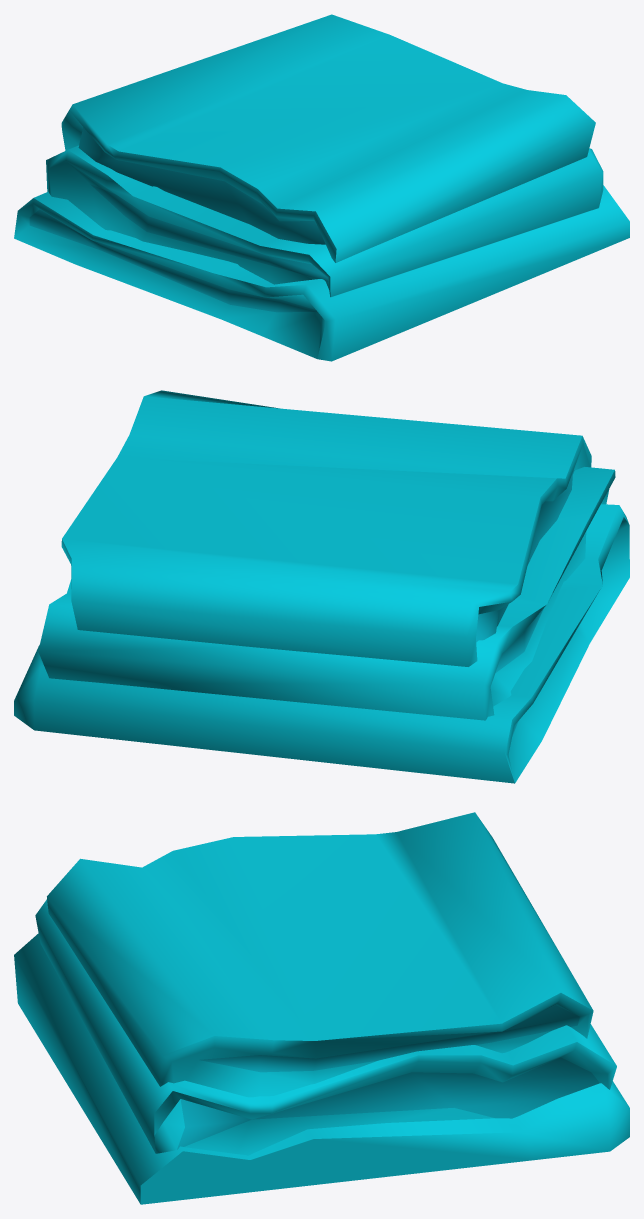
Rendered from clothes_009.glb.
The picture shows the model from 3 angles, top to bottom: view 1: azimuth 30°, elevation 25°; view 2: azimuth 150°, elevation 25°; view 3: azimuth 270°, elevation 25°; orthographic projection. The views are drawn at different scales.
Visible parts, largest first — view 1: clothes_009; view 2: clothes_009; view 3: clothes_009.
Part boxes in pixels (x1,y1,x2,y2): clothes_009: (14,14,629,361); clothes_009: (14,390,629,783); clothes_009: (14,812,629,1204).
Size of the model in its own units: 0.4686 by 0.1276 by 0.459.
1 material, 1 textured.
